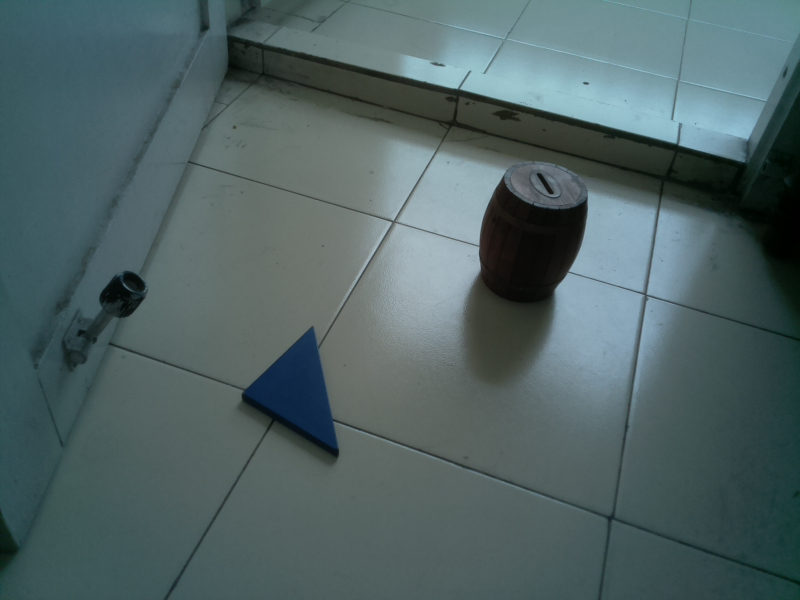Triangle: (238, 320, 350, 466)
